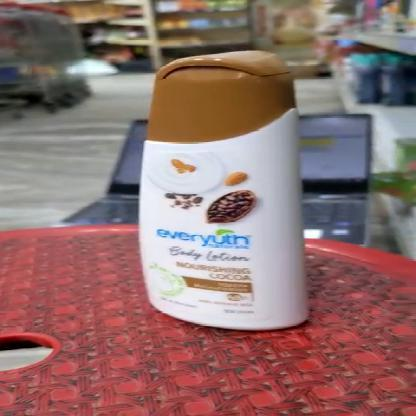Everyuth Naturals Body Lotion Nourishing Cocoa 200ml: (142, 52, 320, 330)
